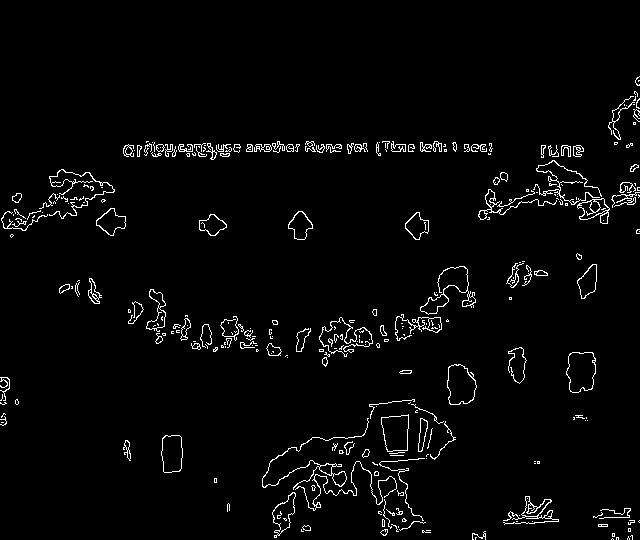left: (396, 206, 441, 252), (92, 206, 131, 244)
right: (193, 204, 232, 244)
up: (280, 203, 318, 249)
